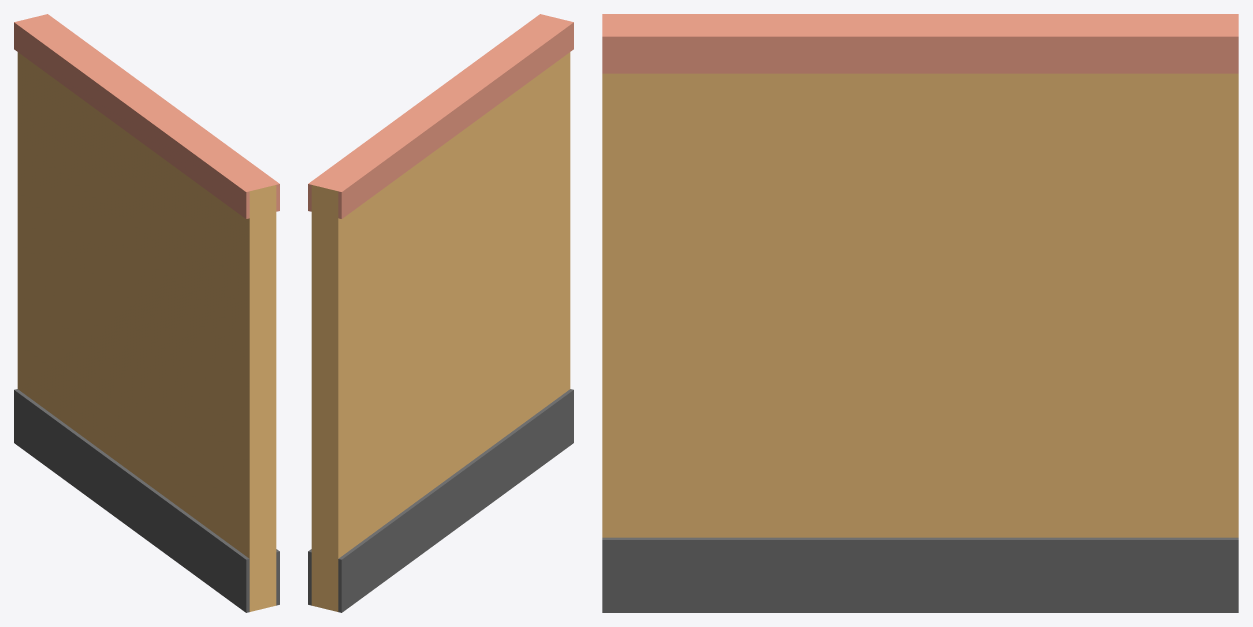
File: Wall01.fbx
3 renders of one model, left to right at view 1: azimuth 30°, elevation 25°; view 2: azimuth 150°, elevation 25°; view 3: azimuth 270°, elevation 25°, orthographic. The views are drawn at different scales.
Visible parts, largest first — view 1: Wall01; view 2: Wall01; view 3: Wall01.
Boxes of the visible parts, box(x1,y1,x2,y2) form: Wall01: box(14, 14, 279, 612); Wall01: box(308, 14, 573, 612); Wall01: box(602, 14, 1238, 612).
Size of the model in its own units: 0.2519 by 3 by 3.
